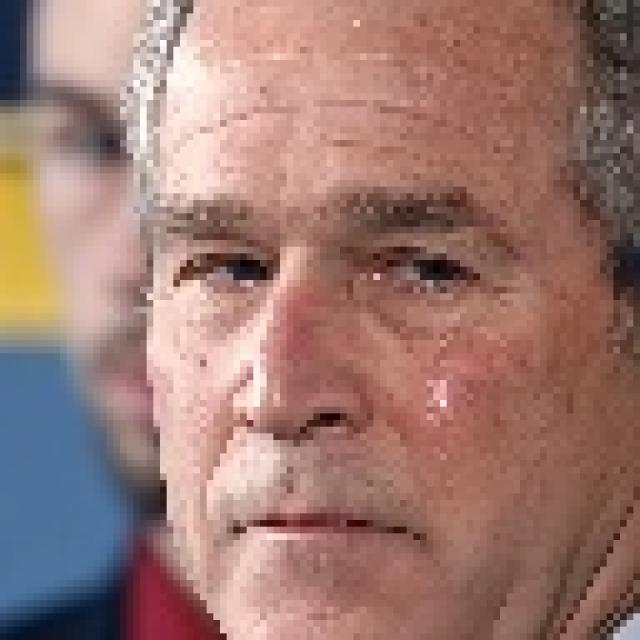sad: (81, 72, 610, 640)
